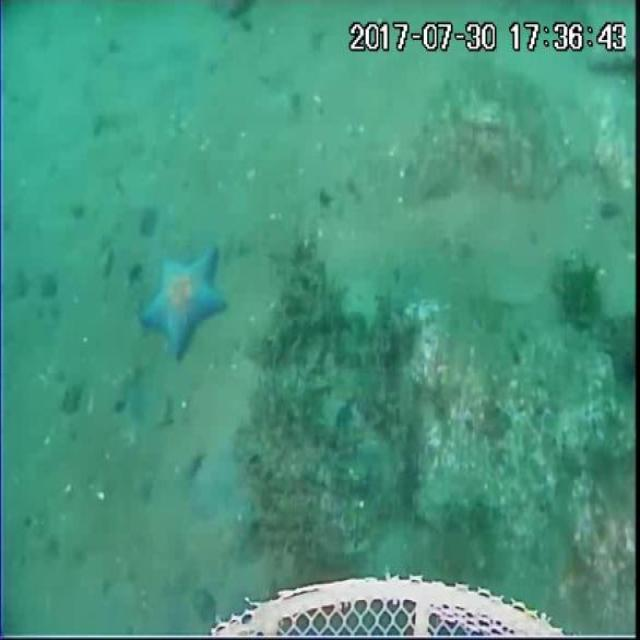starfish: (138, 247, 232, 361)
